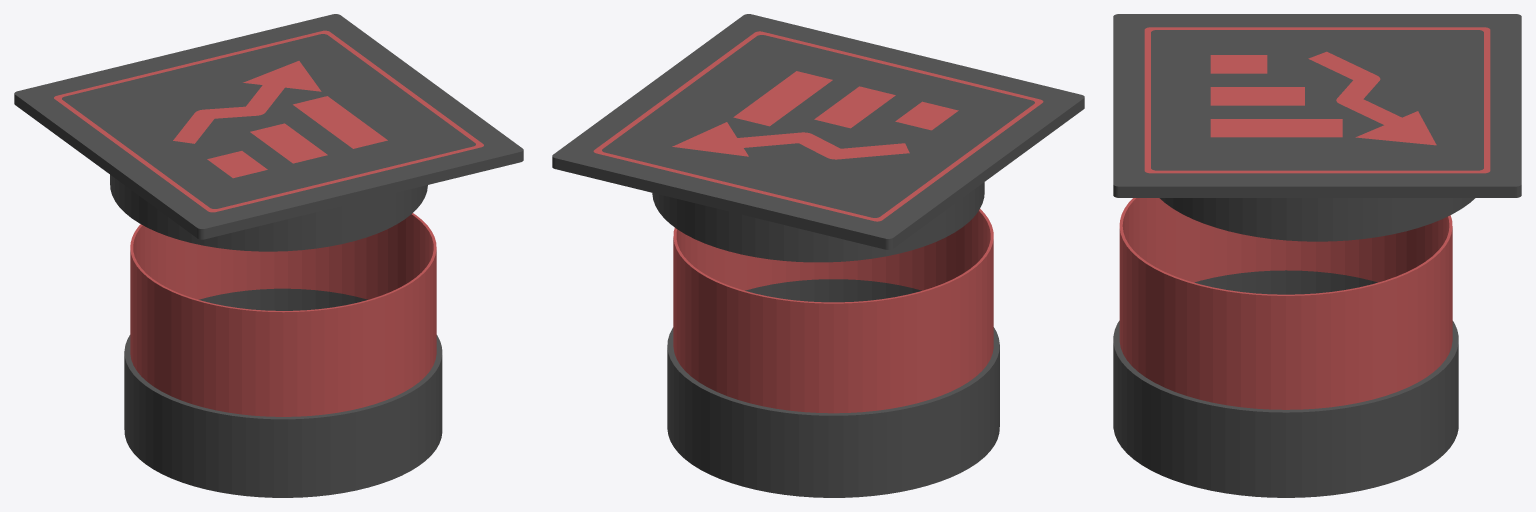
Rendered from bomboniera-economia-facolta-aperto.glb.
3 views of the same model, side by side, from view 1: azimuth 30°, elevation 25°; view 2: azimuth 150°, elevation 25°; view 3: azimuth 270°, elevation 25° (orthographic). The views are drawn at different scales.
Parts seen in each view (by area): view 1: struttura_coperchio, fascia, struttura_base, simbolo_intarsio, bordo; view 2: struttura_coperchio, fascia, struttura_base, simbolo_intarsio, bordo; view 3: struttura_coperchio, fascia, struttura_base, simbolo_intarsio, bordo.
Boxes of the visible parts, <box> form: struttura_coperchio: <box>14,14,523,251</box>; fascia: <box>130,213,436,416</box>; struttura_base: <box>124,288,442,497</box>; simbolo_intarsio: <box>173,61,387,178</box>; bordo: <box>54,30,483,212</box>; struttura_coperchio: <box>552,14,1084,262</box>; fascia: <box>673,209,993,413</box>; struttura_base: <box>667,279,999,497</box>; simbolo_intarsio: <box>672,71,958,159</box>; bordo: <box>593,31,1043,221</box>; struttura_coperchio: <box>1113,14,1521,241</box>; fascia: <box>1119,198,1452,409</box>; struttura_base: <box>1113,270,1458,497</box>; simbolo_intarsio: <box>1210,51,1436,145</box>; bordo: <box>1144,27,1490,173</box>.
Bounding box in the file's own units: 0.065 × 0.057 × 0.065.
